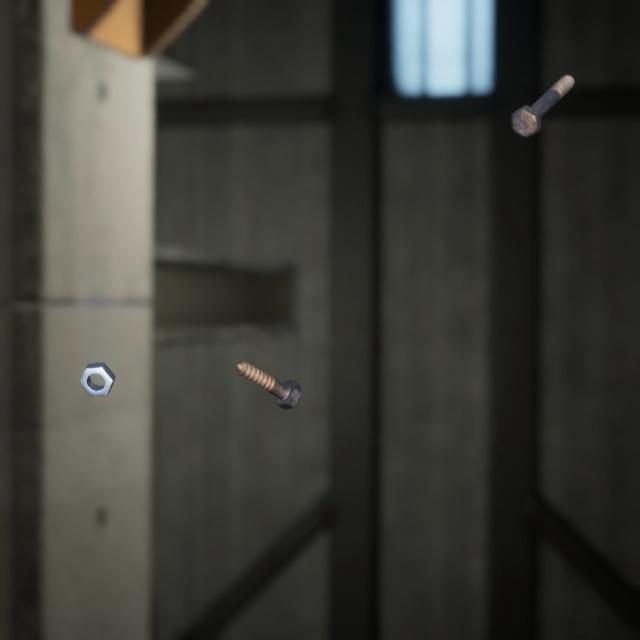bolt: (506, 59, 579, 130), (232, 336, 306, 394)
nut: (74, 339, 120, 382)
